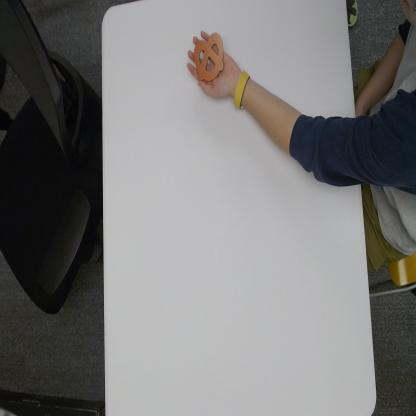Arm: (251, 73, 416, 191)
Pretzel: (193, 32, 226, 84)
